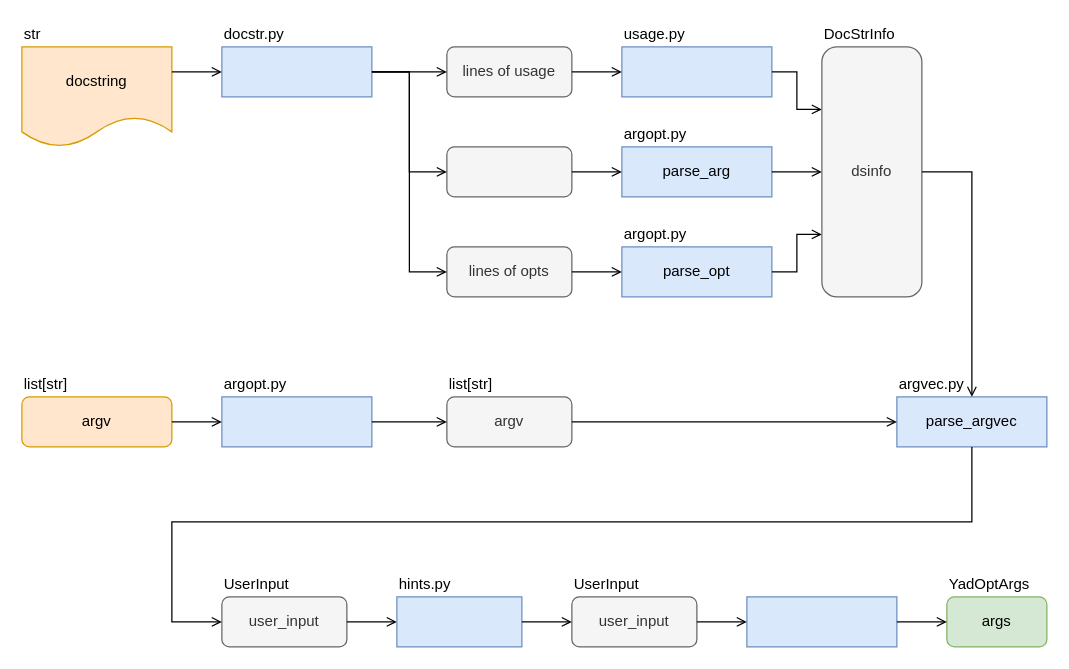
Some shapes in this 1069 by 669 pixel diagram are drawn without their labels. Each missing label, with the box of its shape:
generate_data: (746, 596, 897, 647)
lines of args: (446, 146, 572, 197)
parse_usg: (621, 46, 772, 97)
retokenize: (221, 396, 372, 447)
split_section: (221, 46, 372, 97)
type_hint: (396, 596, 522, 647)
